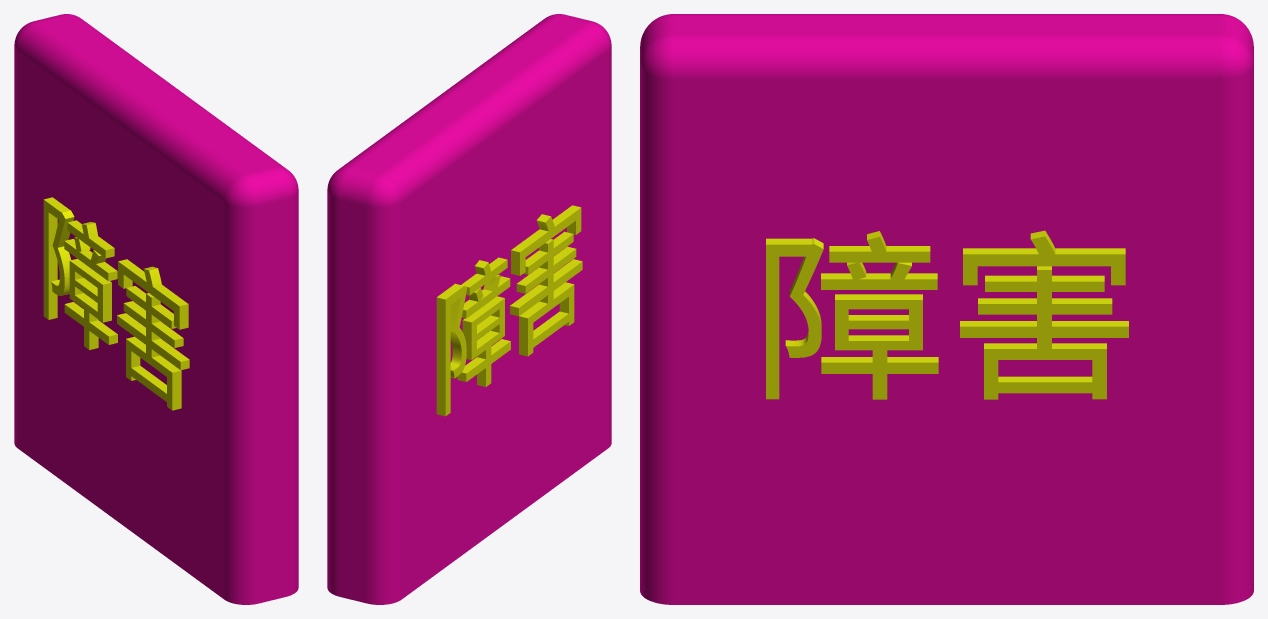
Rendered from DynamicWallObstacle.fbx.
3 views of the same model, side by side, from view 1: azimuth 30°, elevation 25°; view 2: azimuth 150°, elevation 25°; view 3: azimuth 270°, elevation 25° (orthographic). The views are drawn at different scales.
Visible parts, largest first — view 1: Cube, Text.001; view 2: Cube, Text.001; view 3: Cube, Text.
Part boxes in pixels (left/top/right/bottom): Cube: left=14, top=14, right=298, bottom=604; Text.001: left=43, top=197, right=189, bottom=410; Cube: left=327, top=14, right=611, bottom=604; Text.001: left=436, top=205, right=582, bottom=416; Cube: left=640, top=14, right=1253, bottom=604; Text: left=766, top=230, right=1128, bottom=399.
Bounding box in the file's own units: 44.33 × 200 × 200.
